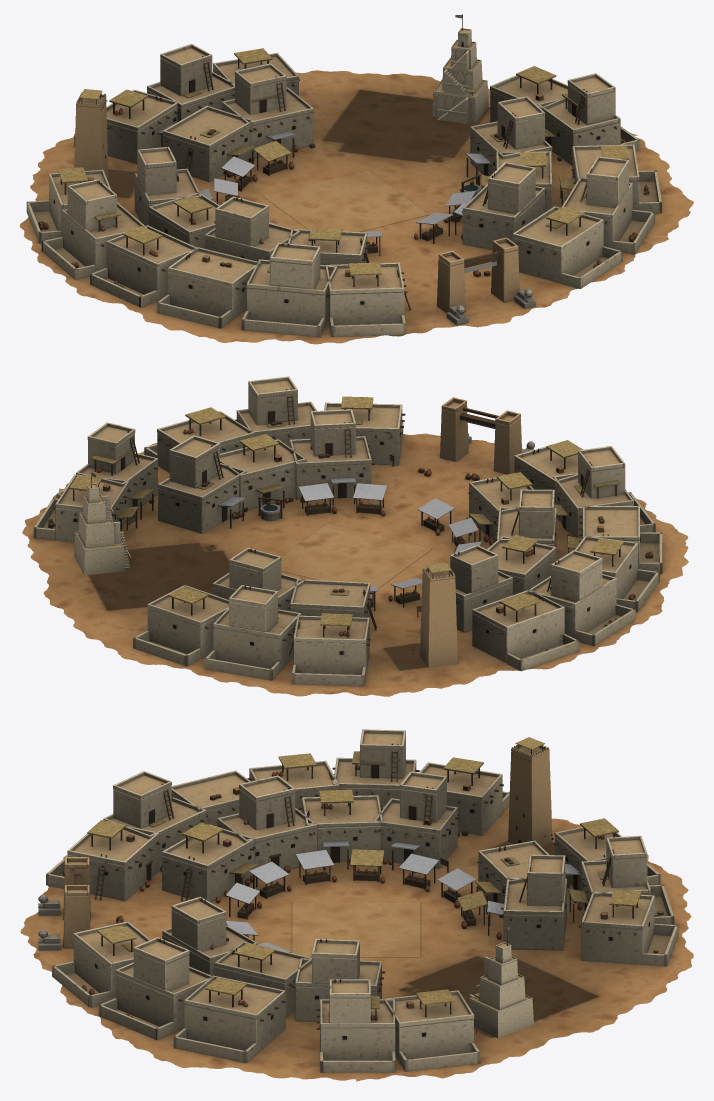
The model's file is bronze-town-big-a.glb.
The picture shows the model from 3 angles, top to bottom: view 1: azimuth 30°, elevation 25°; view 2: azimuth 150°, elevation 25°; view 3: azimuth 270°, elevation 25°; orthographic projection. The views are drawn at different scales.
Parts seen in each view (by area): view 1: LOD0; view 2: LOD0; view 3: LOD0.
Boxes of the visible parts, x1,y1,x2,y2 form: LOD0: (19, 14, 693, 344); LOD0: (22, 376, 688, 696); LOD0: (20, 729, 693, 1081).
Size of what is drawn, in the model's own units: 7.93 by 1.21 by 7.49.
3 materials, 3 textured.
